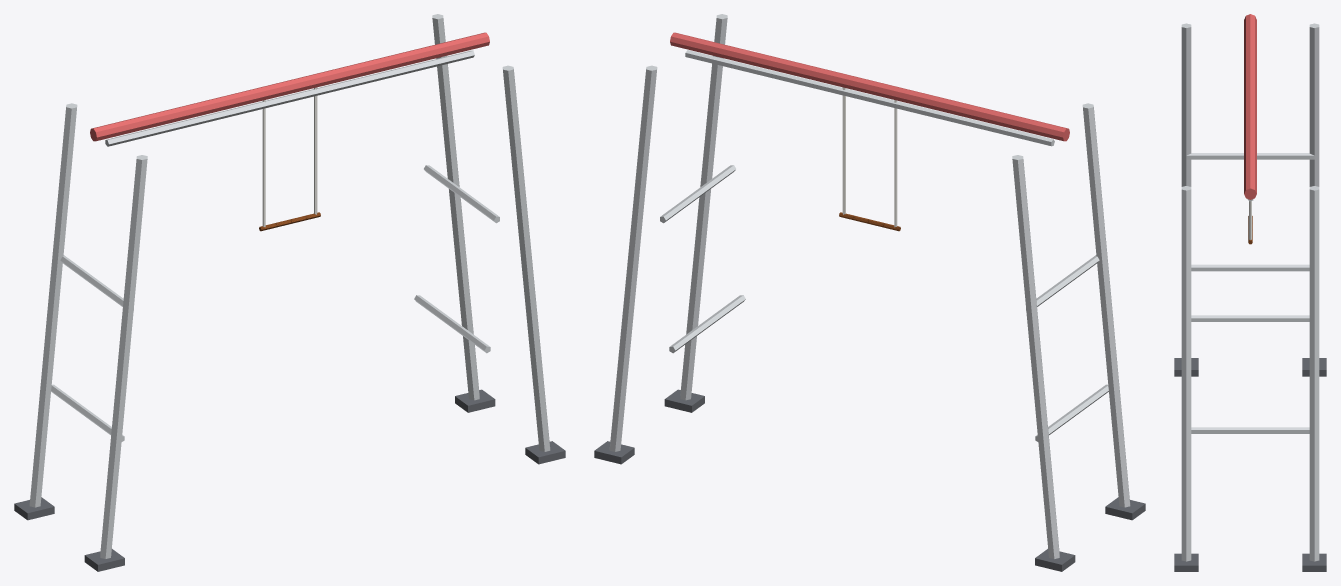
Rendered from travelling-circus-and-big-top-trapeze-rig-fadd423a__36243.glb.
3 renders of one model, left to right at view 1: azimuth 30°, elevation 25°; view 2: azimuth 150°, elevation 25°; view 3: azimuth 270°, elevation 25°, orthographic. The views are drawn at different scales.
Visible parts, largest first — view 1: trapeze-rig-steel, trapeze-rig-stripe, trapeze-rig-charcoal, bar/canvas; view 2: trapeze-rig-steel, trapeze-rig-stripe, trapeze-rig-charcoal, bar/canvas; view 3: trapeze-rig-steel, trapeze-rig-stripe, trapeze-rig-charcoal.
Boxes of the visible parts, x1=… form: trapeze-rig-steel: x1=29, y1=14, x2=550, y2=558; trapeze-rig-stripe: x1=90, y1=32, x2=489, y2=141; trapeze-rig-charcoal: x1=14, y1=389, x2=565, y2=571; bar/canvas: x1=262, y1=87, x2=317, y2=227; trapeze-rig-steel: x1=609, y1=14, x2=1130, y2=558; trapeze-rig-stripe: x1=670, y1=32, x2=1069, y2=141; trapeze-rig-charcoal: x1=594, y1=389, x2=1145, y2=571; bar/canvas: x1=842, y1=87, x2=897, y2=227; trapeze-rig-steel: x1=1181, y1=23, x2=1319, y2=561; trapeze-rig-stripe: x1=1244, y1=14, x2=1256, y2=199; trapeze-rig-charcoal: x1=1174, y1=358, x2=1326, y2=571.
Size of the model in its own units: 6.9 by 5.69 by 2.14.
5 materials, 1 textured.
